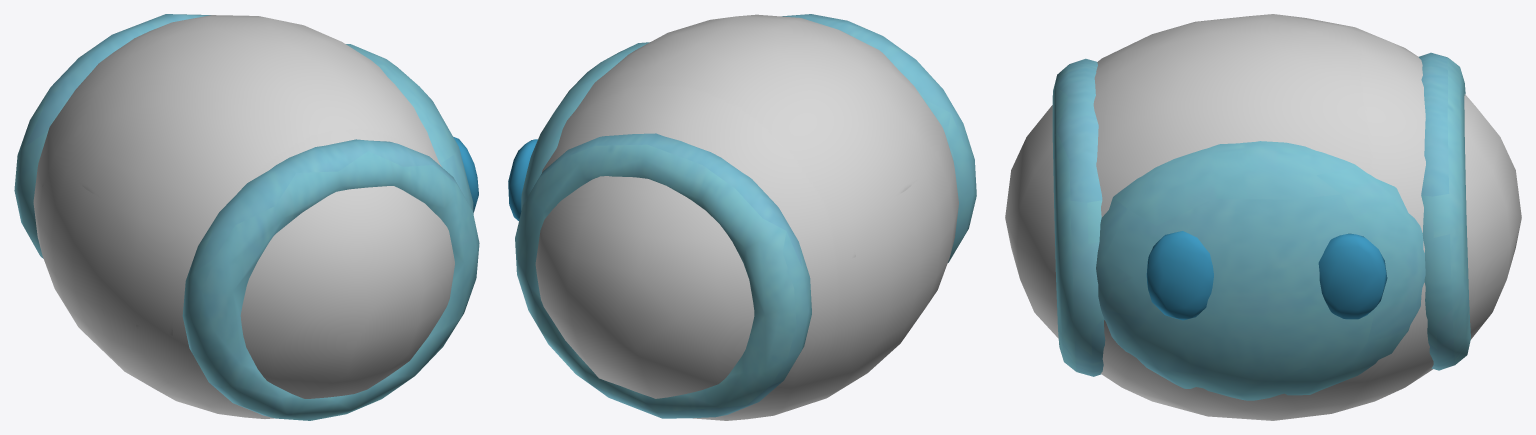
The model's file is lia toy.dae.
3 views of the same model, side by side, from view 1: azimuth 30°, elevation 25°; view 2: azimuth 150°, elevation 25°; view 3: azimuth 270°, elevation 25° (orthographic). The views are drawn at different scales.
Visible parts, largest first — view 1: Sphere_001; view 2: Sphere_001; view 3: Sphere_001.
Boxes of the visible parts, box(x1,y1,x2,y2) form: Sphere_001: box(14, 14, 479, 420); Sphere_001: box(508, 14, 976, 420); Sphere_001: box(1005, 14, 1521, 420).
Bounding box in the file's own units: 0.3458 × 0.4127 × 0.3219.
Materials: 6 (6 with a texture image).
